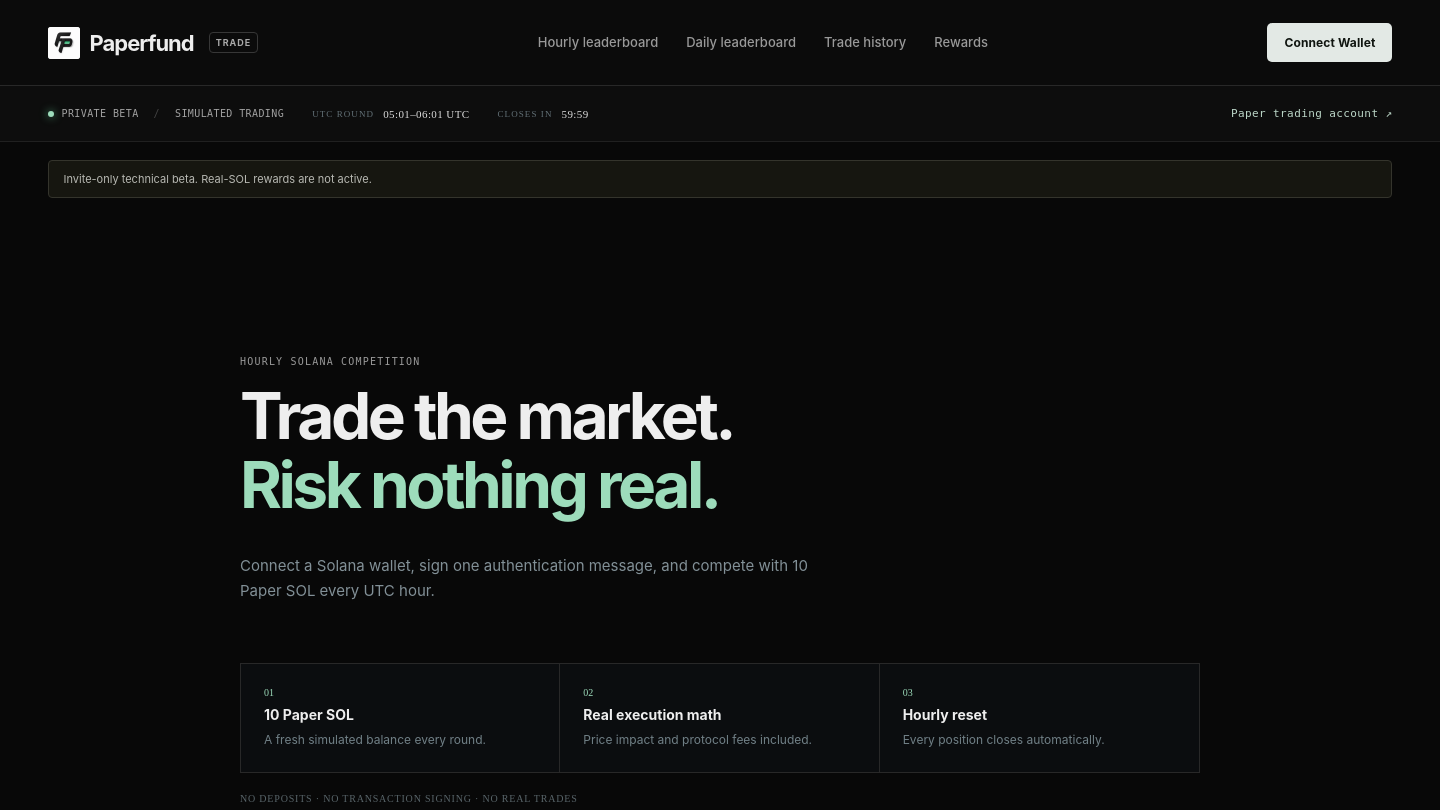
Test: Paperfund web app › distinguishes a connected wallet from an authenticated session
Step 1. Click the button "Connect Wallet" → click(1330, 42), box [1267,23,1392,62]
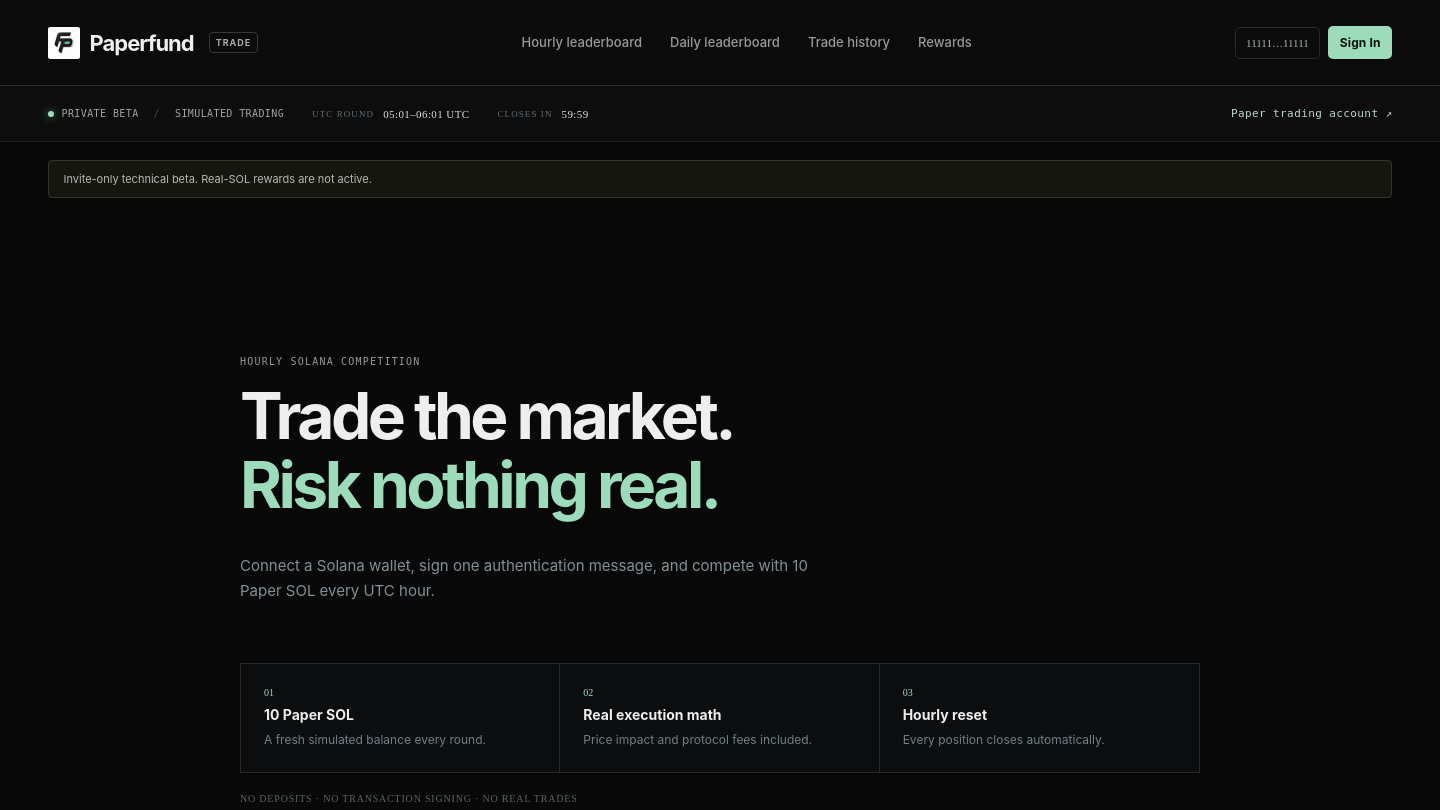
expect the button "Sign In" is enabled: met, box [1328,26,1392,59]
